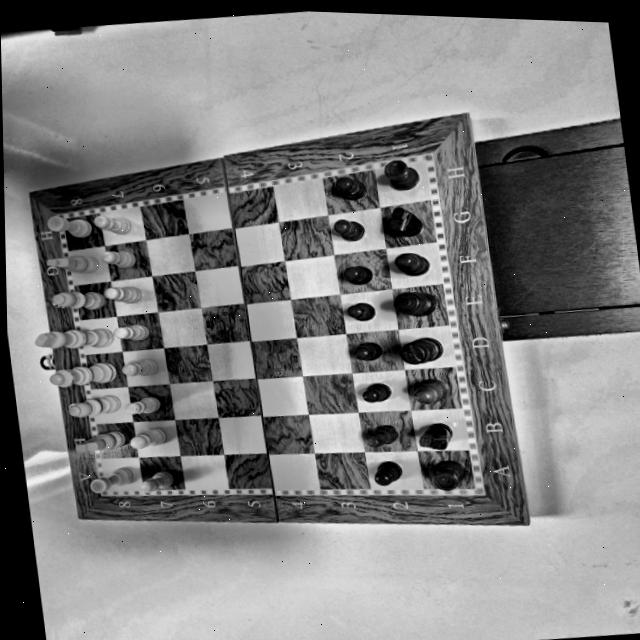black-bishop: (389, 243, 442, 284), (410, 372, 458, 411)
black-king: (398, 330, 456, 369)
black-knight: (410, 415, 464, 456), (387, 203, 434, 240)
black-pawn: (353, 420, 406, 455), (329, 170, 376, 207), (364, 457, 413, 491), (334, 258, 380, 293), (347, 335, 389, 367), (329, 215, 374, 243), (341, 299, 386, 326), (359, 378, 397, 409)
black-queen: (394, 285, 443, 326)
black-rook: (373, 154, 426, 196), (424, 454, 473, 496)
white-bishop: (45, 281, 109, 319), (60, 392, 127, 422)
white-king: (33, 322, 116, 356)
white-knight: (42, 249, 103, 280), (70, 430, 129, 457)
white-pawn: (92, 208, 134, 239), (137, 469, 181, 497), (100, 244, 143, 272), (116, 356, 163, 381), (102, 281, 149, 305), (113, 319, 156, 345), (125, 391, 168, 416), (129, 425, 168, 451)
white-queen: (46, 362, 118, 390)
white-rook: (85, 463, 139, 498), (45, 209, 95, 242)
